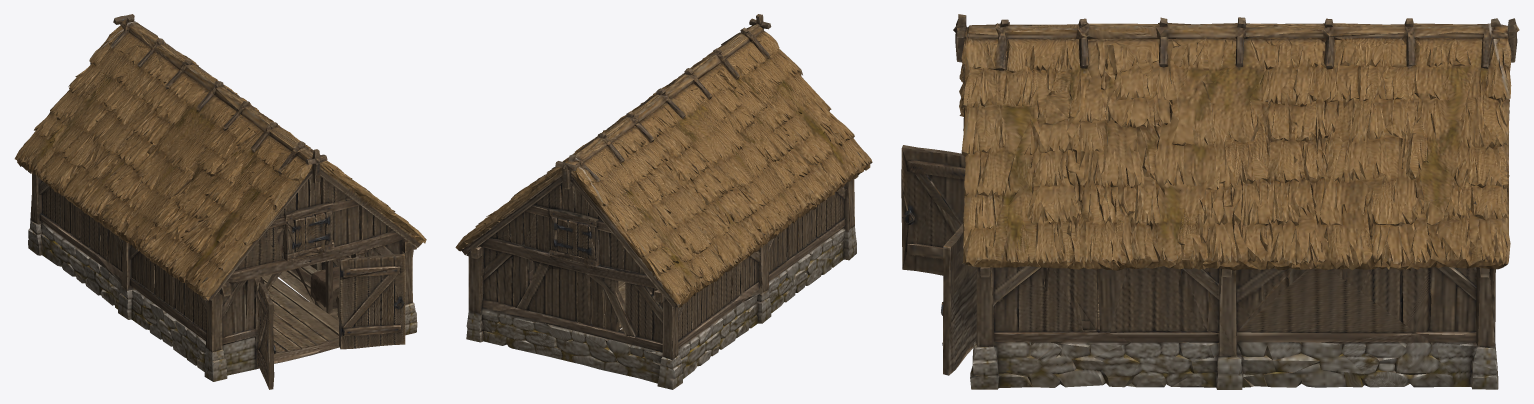
Rendered from barn.glb.
3 renders of one model, left to right at view 1: azimuth 30°, elevation 25°; view 2: azimuth 150°, elevation 25°; view 3: azimuth 270°, elevation 25°, orthographic. The views are drawn at different scales.
Bounding box in the file's own units: 1.17 × 1.02 × 1.9.
Materials: 1 (1 with a texture image).
